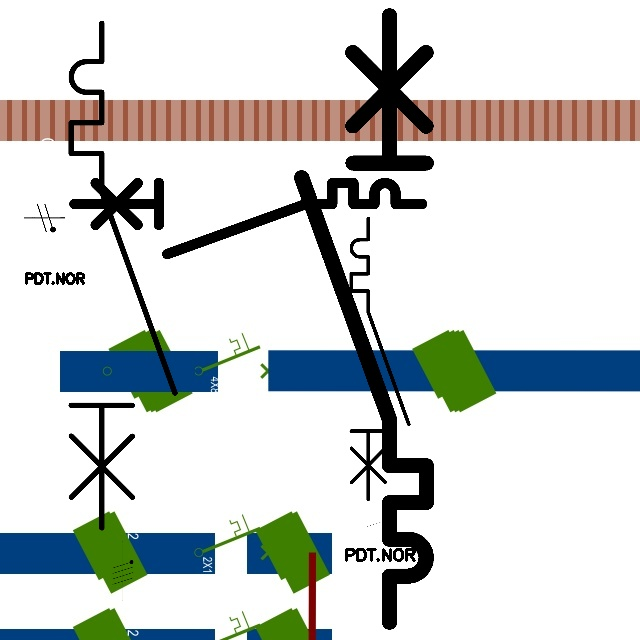interruptor_termomagnetico: (286, 0, 442, 638), (58, 10, 188, 541), (65, 174, 431, 263), (344, 211, 416, 506)
